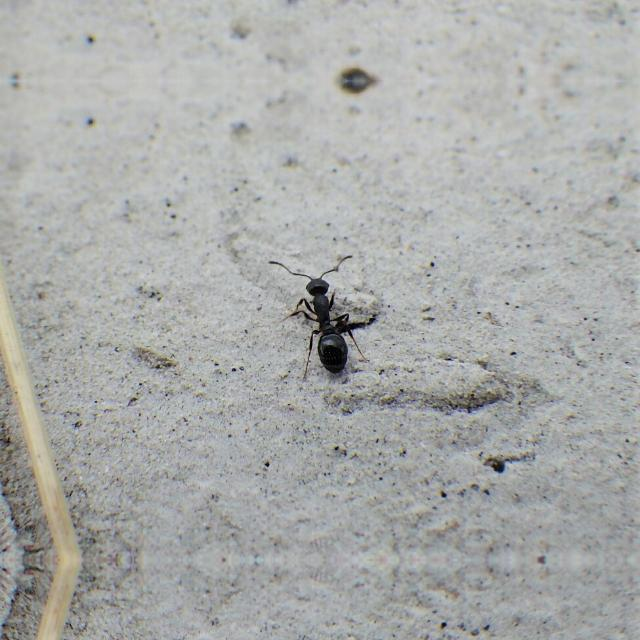Temnothorax: (285, 257, 379, 381)
